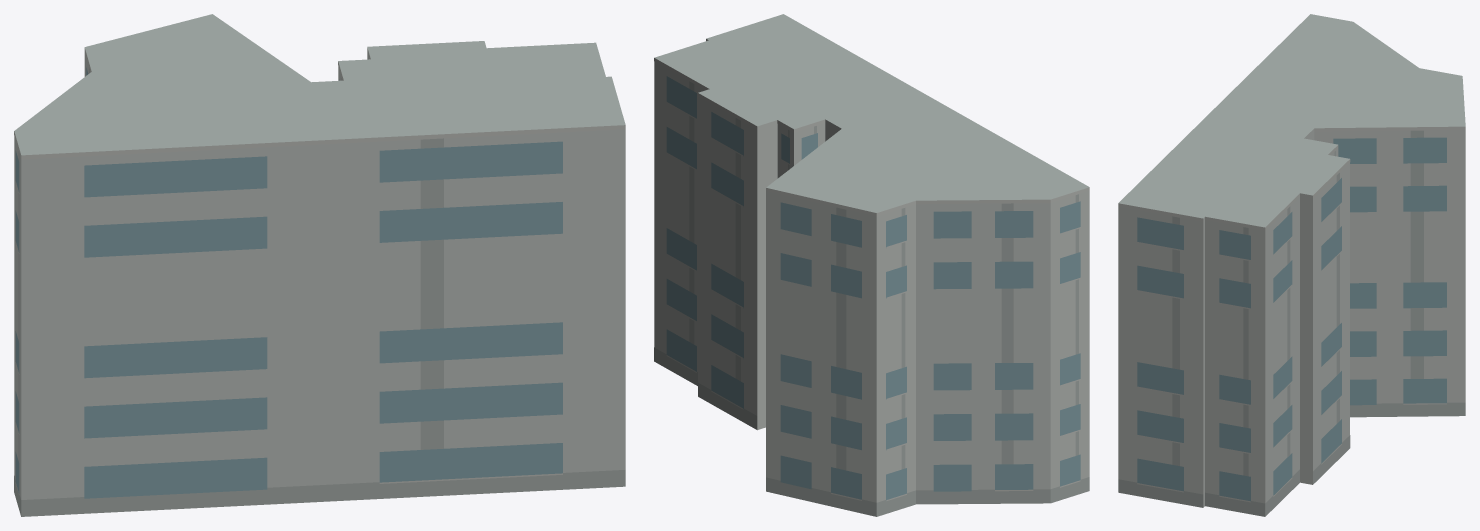
Rendered from survey-upis-32599647.glb.
The picture shows the model from 3 angles, left to right: view 1: azimuth 30°, elevation 25°; view 2: azimuth 150°, elevation 25°; view 3: azimuth 270°, elevation 25°; orthographic projection. The views are drawn at different scales.
Visible parts, largest first — view 1: survey-upis-32599647.tmp; view 2: survey-upis-32599647.tmp; view 3: survey-upis-32599647.tmp.
Boxes of the visible parts, box(x1,y1,x2,y2) form: survey-upis-32599647.tmp: box(14, 14, 625, 516); survey-upis-32599647.tmp: box(654, 14, 1089, 516); survey-upis-32599647.tmp: box(1118, 14, 1465, 516).
Bounding box in the file's own units: 32.6 × 20.6 × 22.43.
